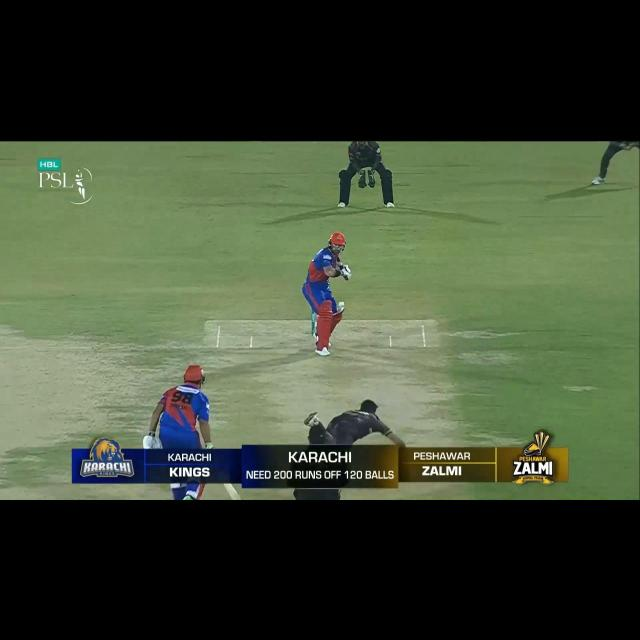bat: (336, 258, 344, 270)
